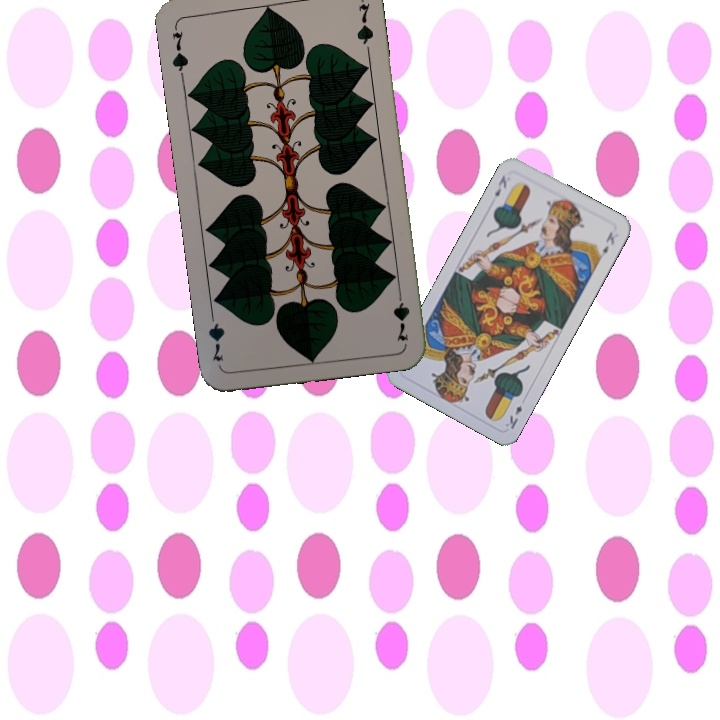EK: (501, 401, 525, 432), (490, 171, 509, 199)
G7: (389, 284, 413, 344), (168, 20, 191, 80)
